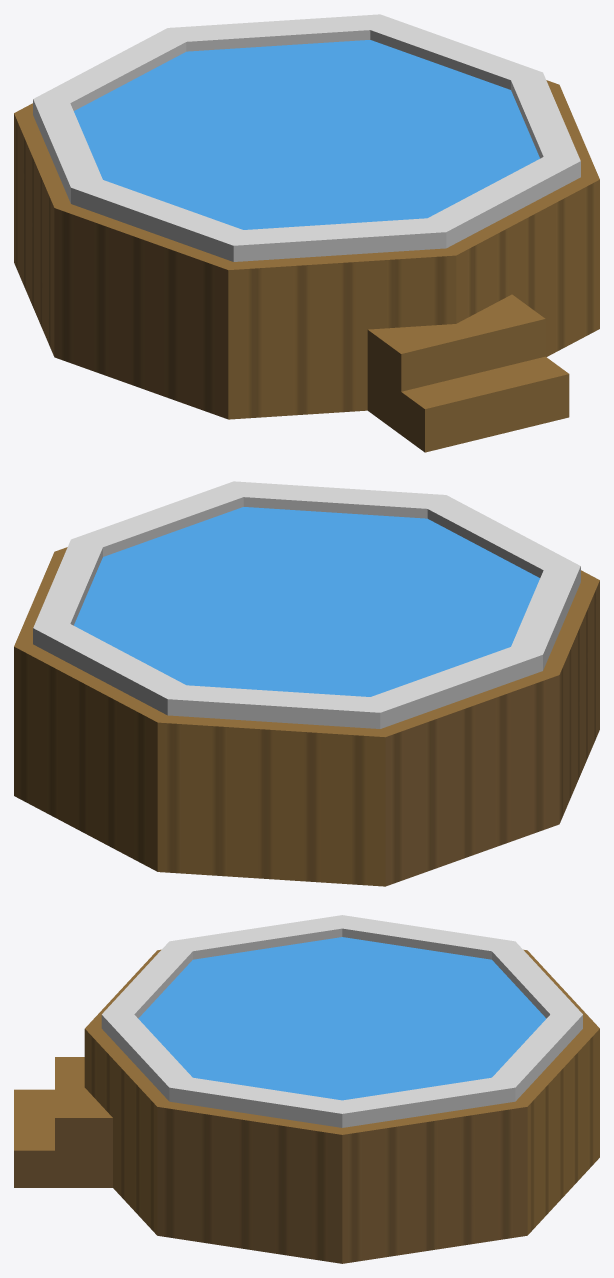
File: SM_Spa_Round_01.fbx
3 renders of one model, top to bottom at view 1: azimuth 30°, elevation 25°; view 2: azimuth 150°, elevation 25°; view 3: azimuth 270°, elevation 25°, orthographic. The views are drawn at different scales.
Visible parts, largest first — view 1: SM_Spa_Round_01; view 2: SM_Spa_Round_01; view 3: SM_Spa_Round_01.
Part boxes in pixels (bbox=[...]): SM_Spa_Round_01: bbox=[14, 14, 599, 452]; SM_Spa_Round_01: bbox=[14, 481, 599, 886]; SM_Spa_Round_01: bbox=[14, 915, 599, 1263].
Size of the model in its own units: 4.03 by 1.26 by 4.69.
